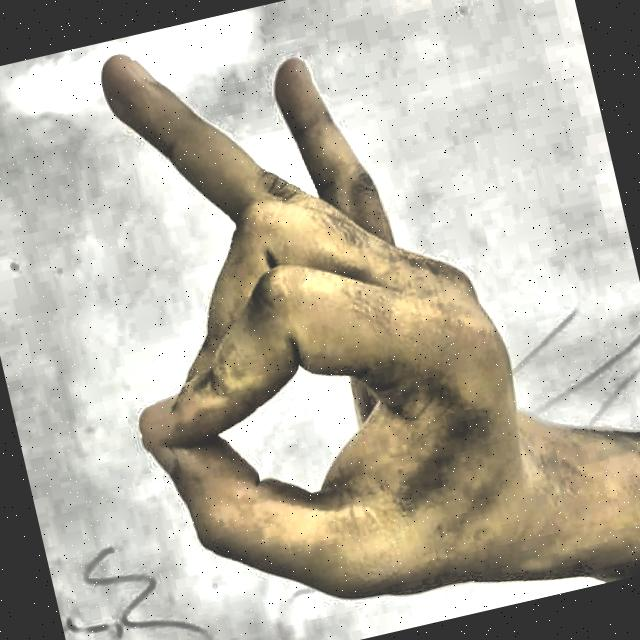Na: (0, 0, 578, 640)
